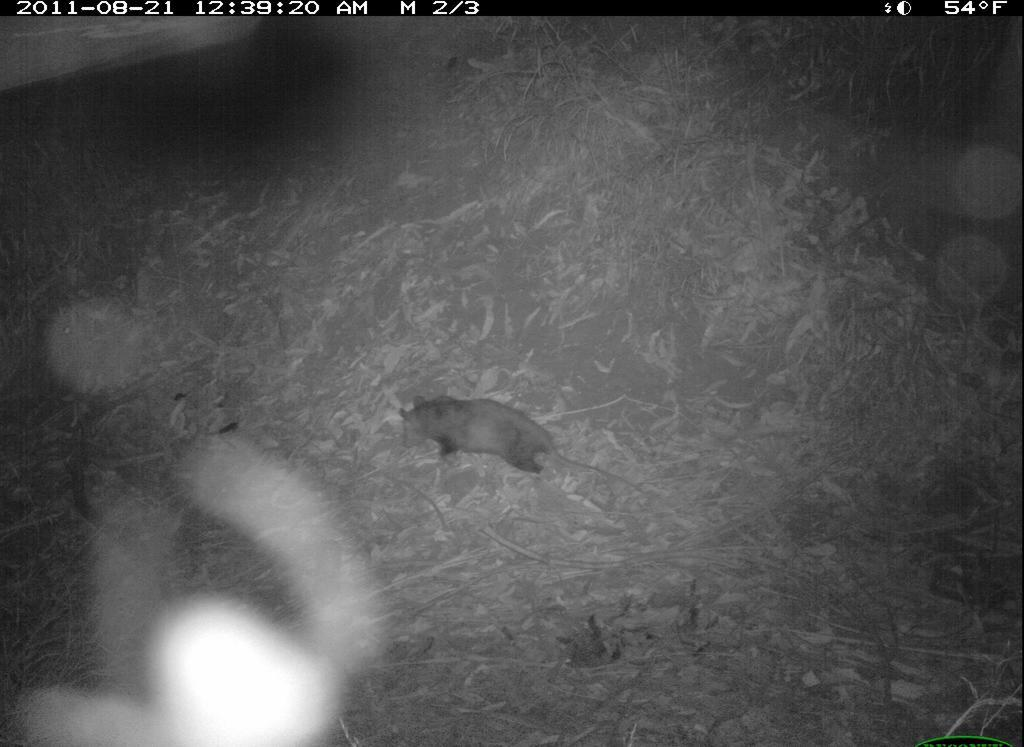opossum: (372, 368, 620, 500)
